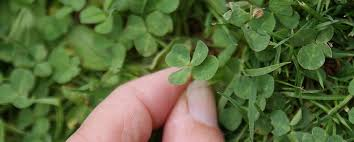4-clover: (165, 40, 219, 87)
